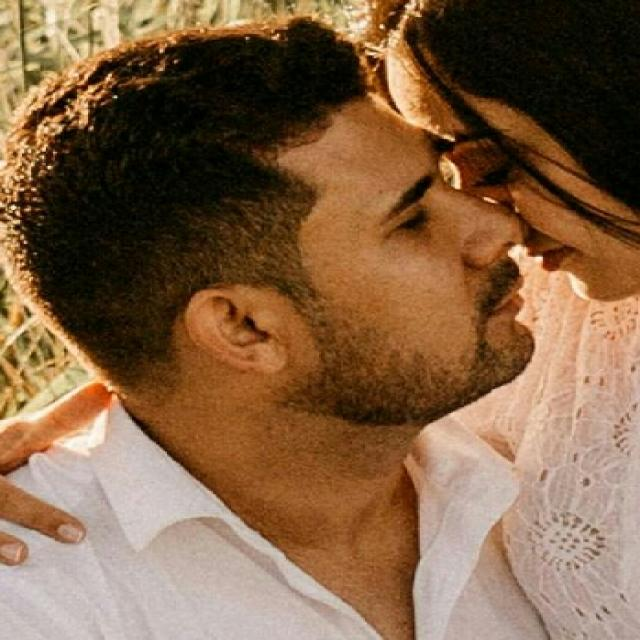front: (261, 160, 619, 417)
